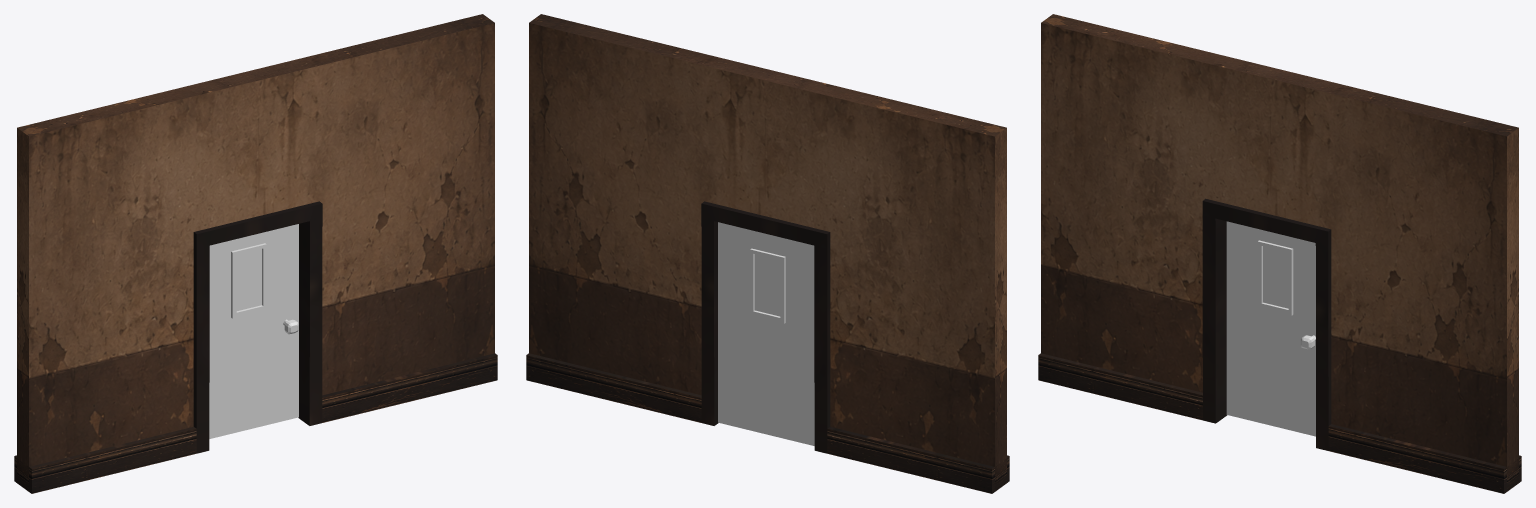
File: PuertaCerrada.fbx
3 renders of one model, left to right at view 1: azimuth 30°, elevation 25°; view 2: azimuth 150°, elevation 25°; view 3: azimuth 330°, elevation 25°, orthographic.
Visible parts, largest first — view 1: PuertaCerrado, PuertaCerrado2; view 2: PuertaCerrado, PuertaCerrado2; view 3: PuertaCerrado, PuertaCerrado2.
Boxes of the visible parts, x1,y1,x2,y2 form: PuertaCerrado: [14, 14, 497, 493]; PuertaCerrado2: [209, 224, 298, 438]; PuertaCerrado: [526, 14, 1009, 493]; PuertaCerrado2: [718, 222, 814, 445]; PuertaCerrado: [1038, 14, 1521, 493]; PuertaCerrado2: [1226, 221, 1315, 436].
Bounding box in the file's own units: 1191 × 868 × 80.7.
Materials: 2 (1 with a texture image).
